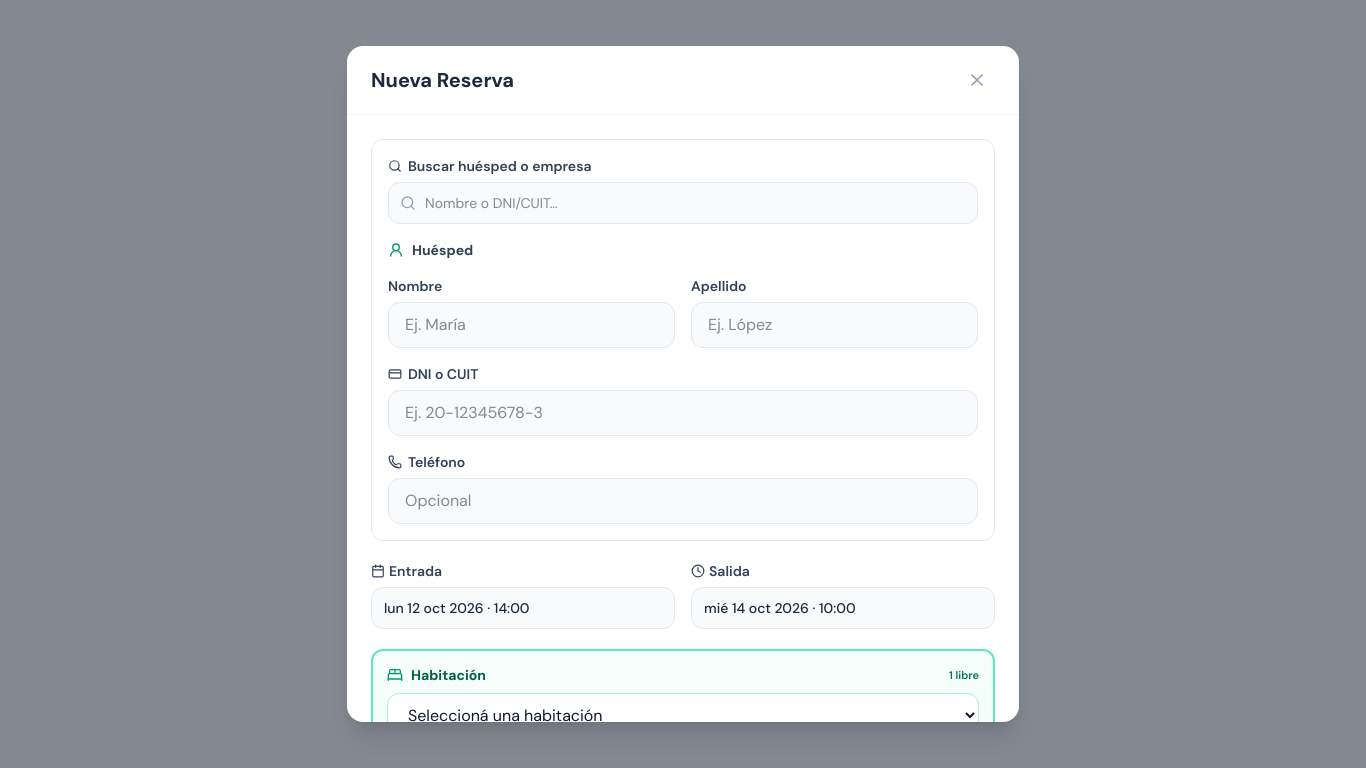
Test: NewReservationModal: el aviso sigue a las fechas que están en pantalla › si con las fechas nuevas la Hab. 5 está libre, vuelve a quedar elegida y el aviso se va
Click the button named "Salida": (843, 608) x1=691 y1=587 x2=995 y2=629
(page scrolled)
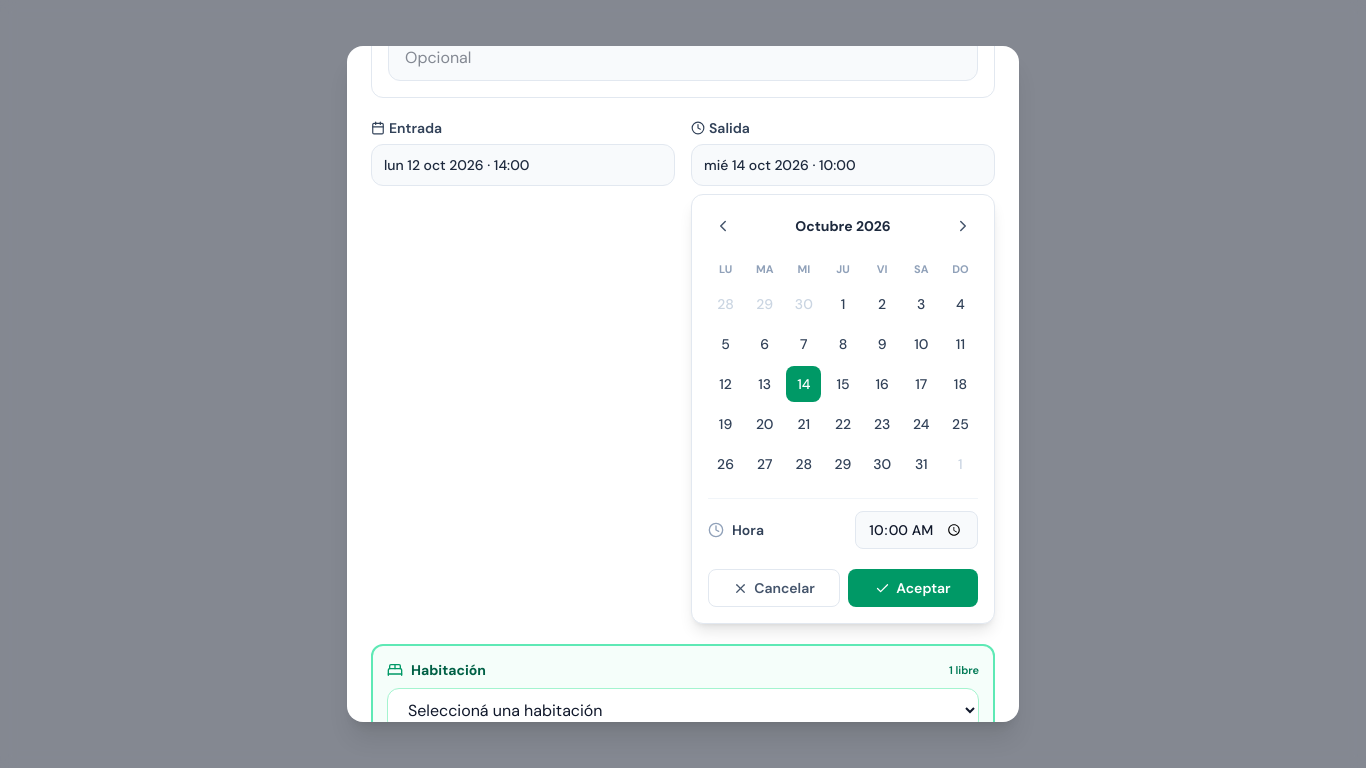
Click the button "13": (765, 384) x1=747 y1=366 x2=782 y2=402
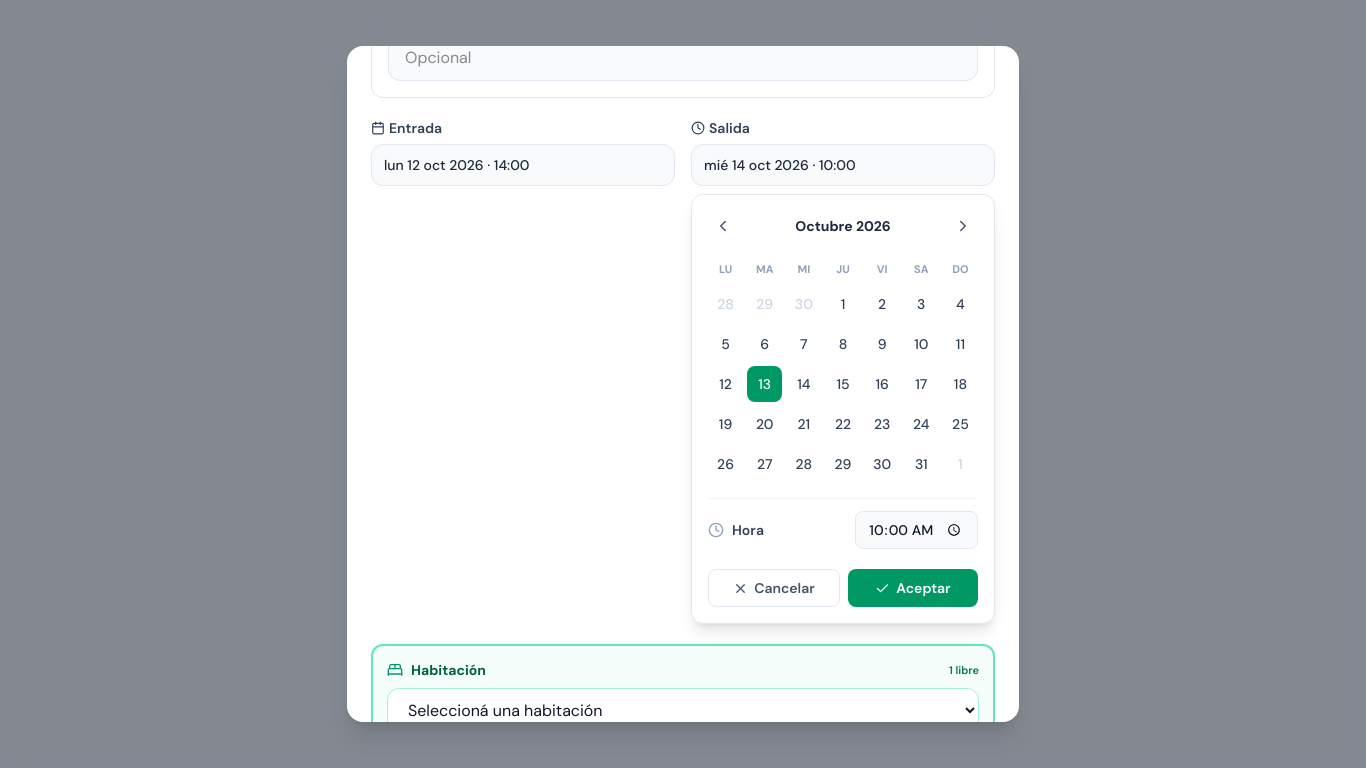
Click the button "Aceptar": (913, 588) x1=848 y1=569 x2=978 y2=607
(page scrolled)
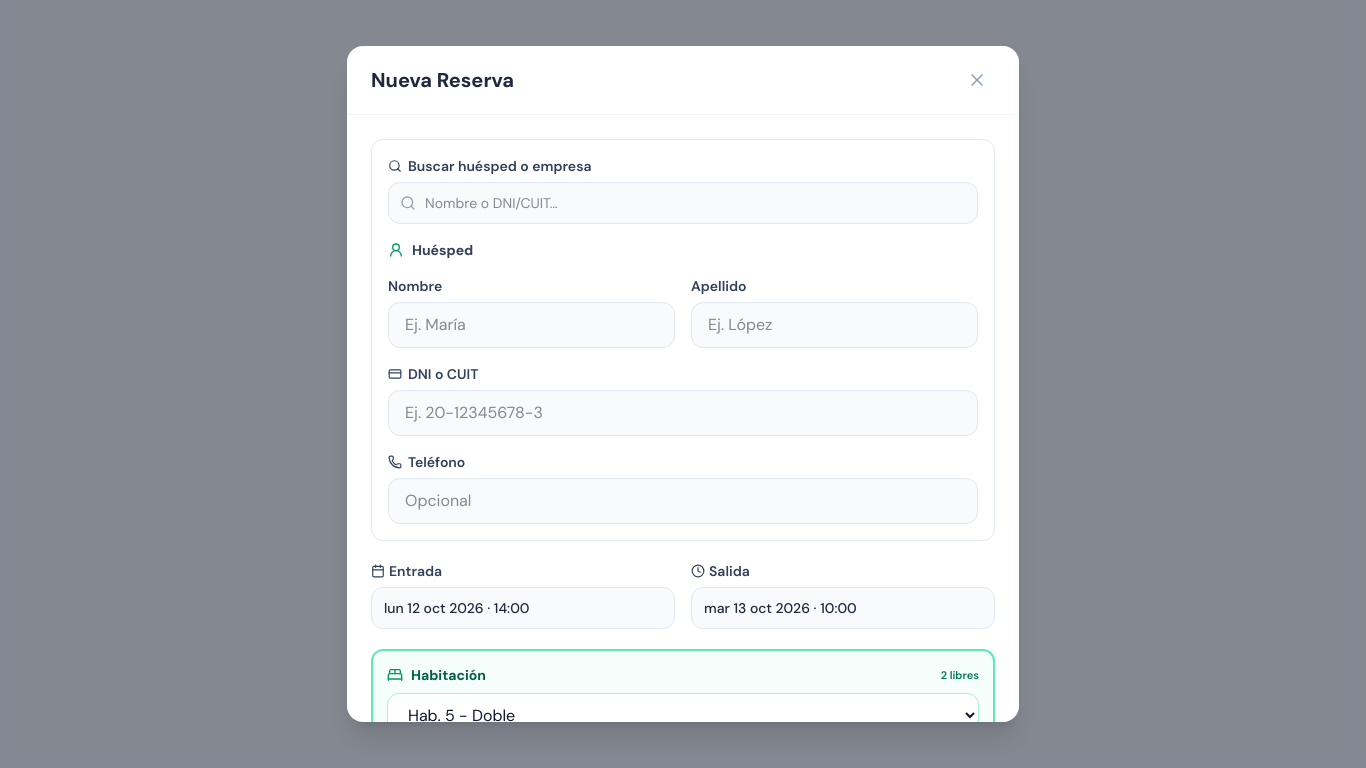
Expected: the text "no está libre" is not shown
Now the dropdown labelled "Habitación" shows "Hab. 5 - Doble", box x1=387 y1=693 x2=979 y2=722
In the field labelled "Nombre": (532, 325) x1=388 y1=302 x2=675 y2=348, type "Juan"
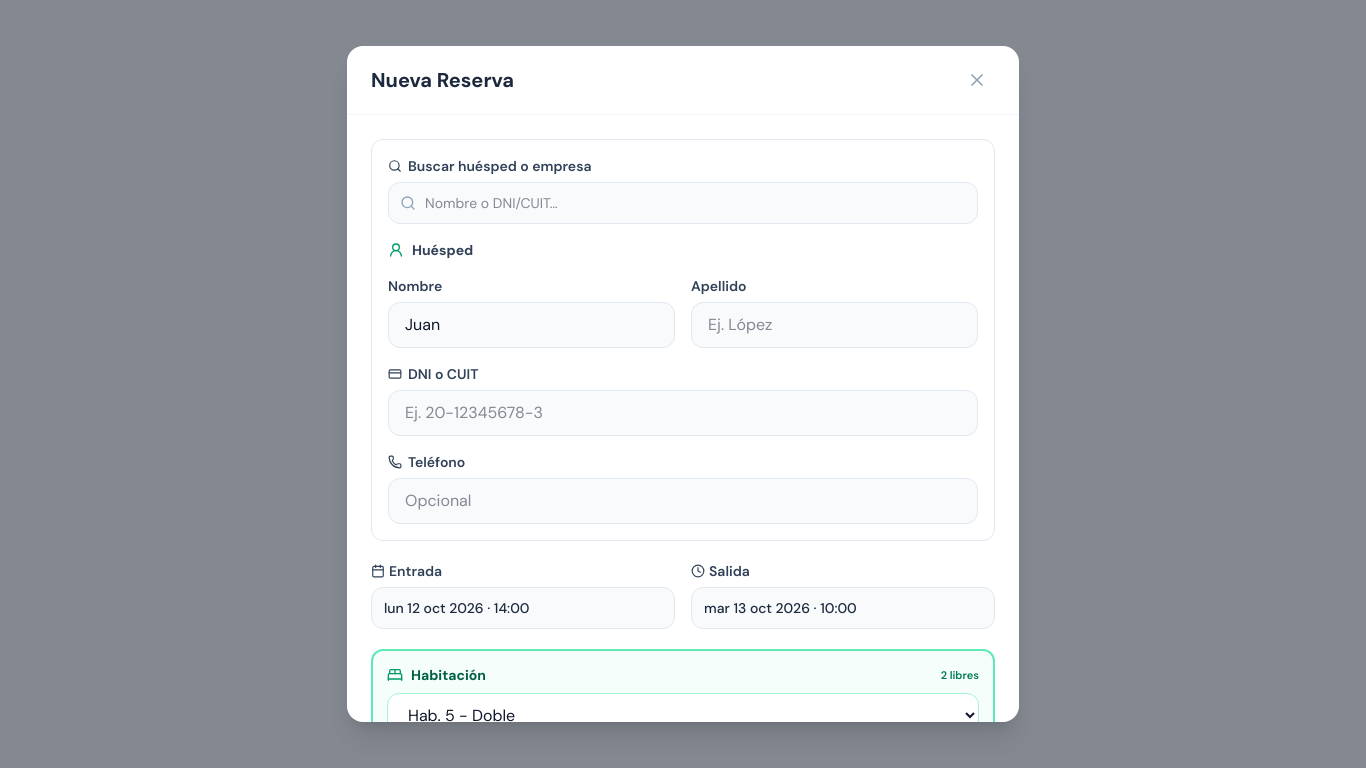
In the field labelled "Apellido": (834, 325) x1=691 y1=302 x2=978 y2=348, type "Prueba"
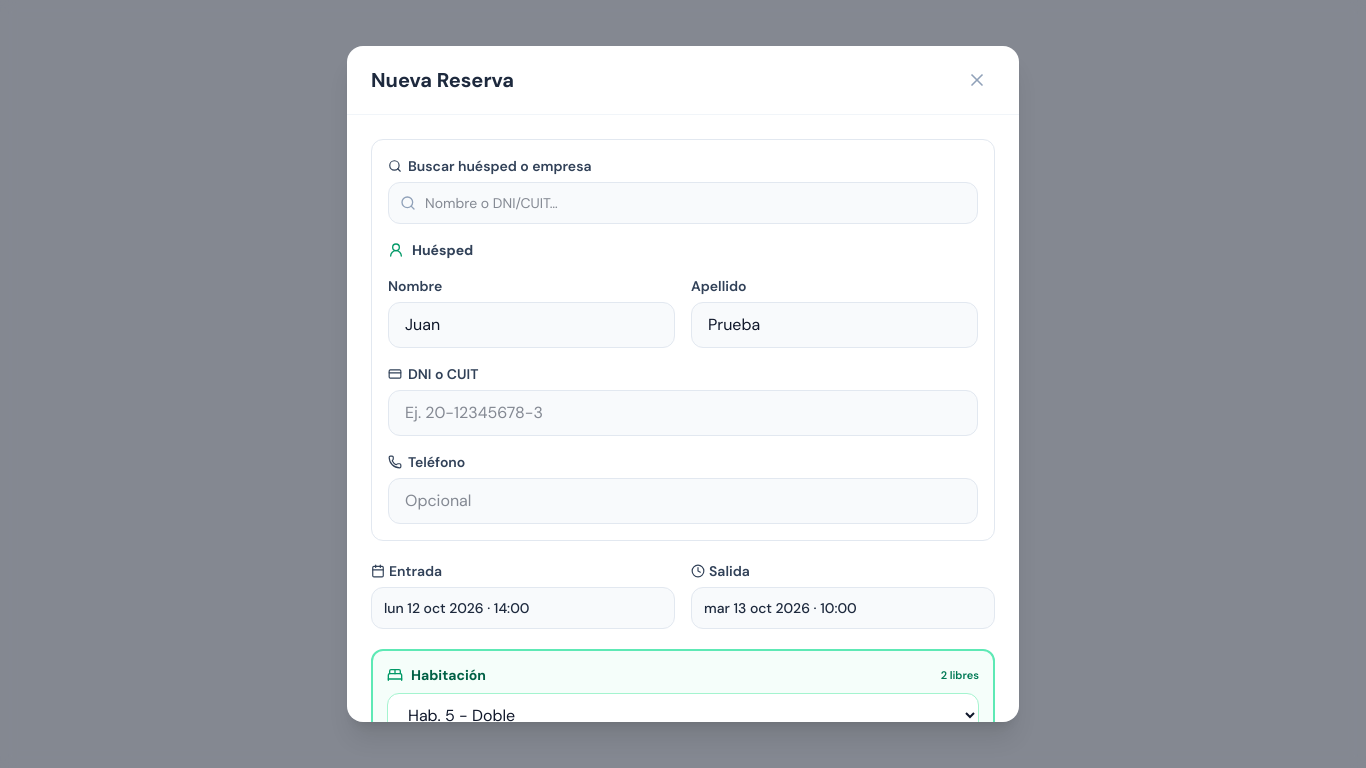
In the field labelled "DNI o CUIT": (683, 413) x1=388 y1=390 x2=978 y2=436, type "30123456"
(page scrolled)
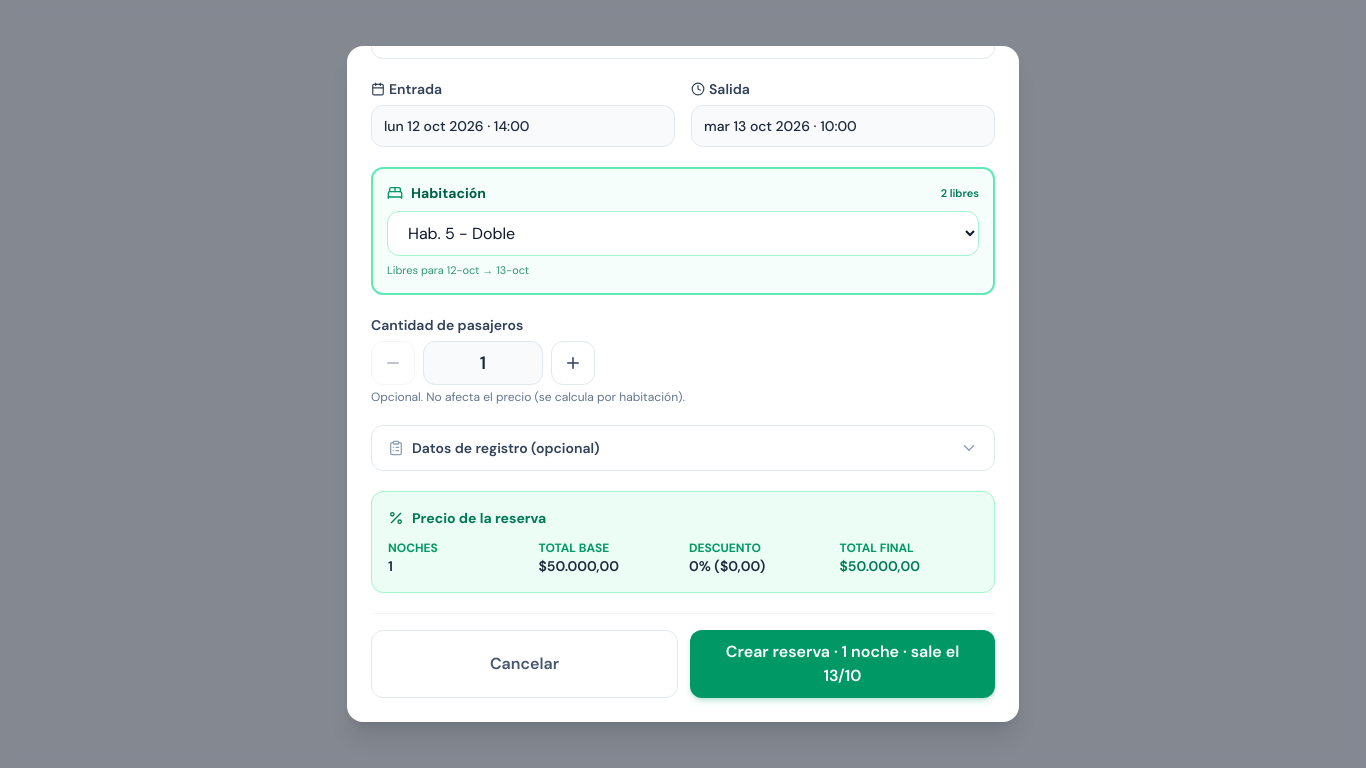
Now the submit button is enabled, box x1=690 y1=630 x2=995 y2=698
